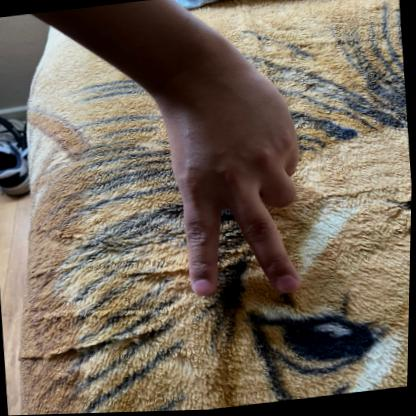N: (150, 78, 324, 309)
